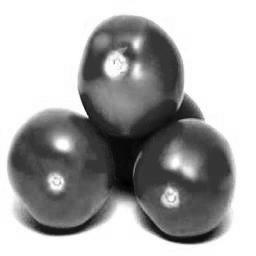bukan telur: (11, 108, 120, 229), (78, 12, 185, 133), (134, 119, 233, 240)
